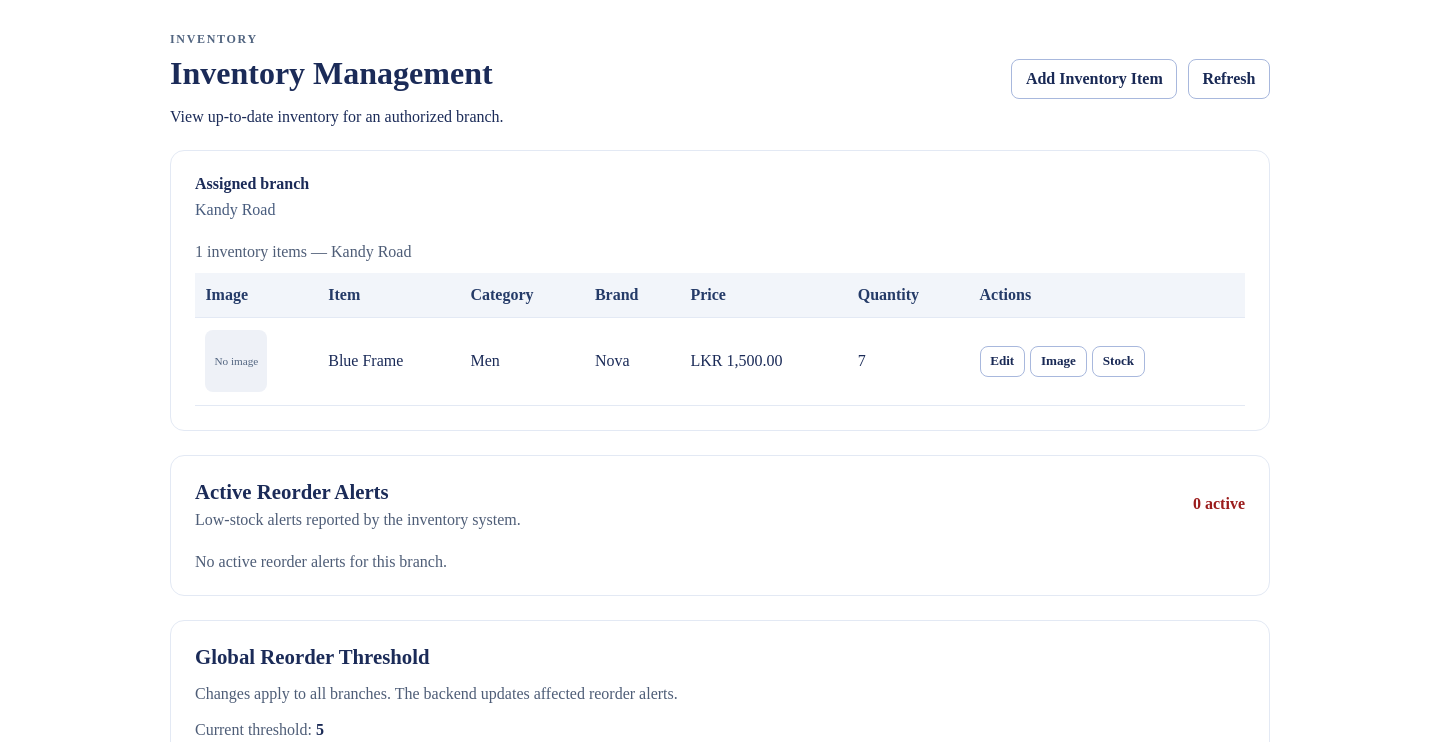
Inventory quantity management › rejects empty, negative, and fractional inputs () without any request
The width and height of the screenshot is (1440, 742).
Click the button named "Update quantity for Blue Frame": click(1118, 361) [1092,346,1145,377]
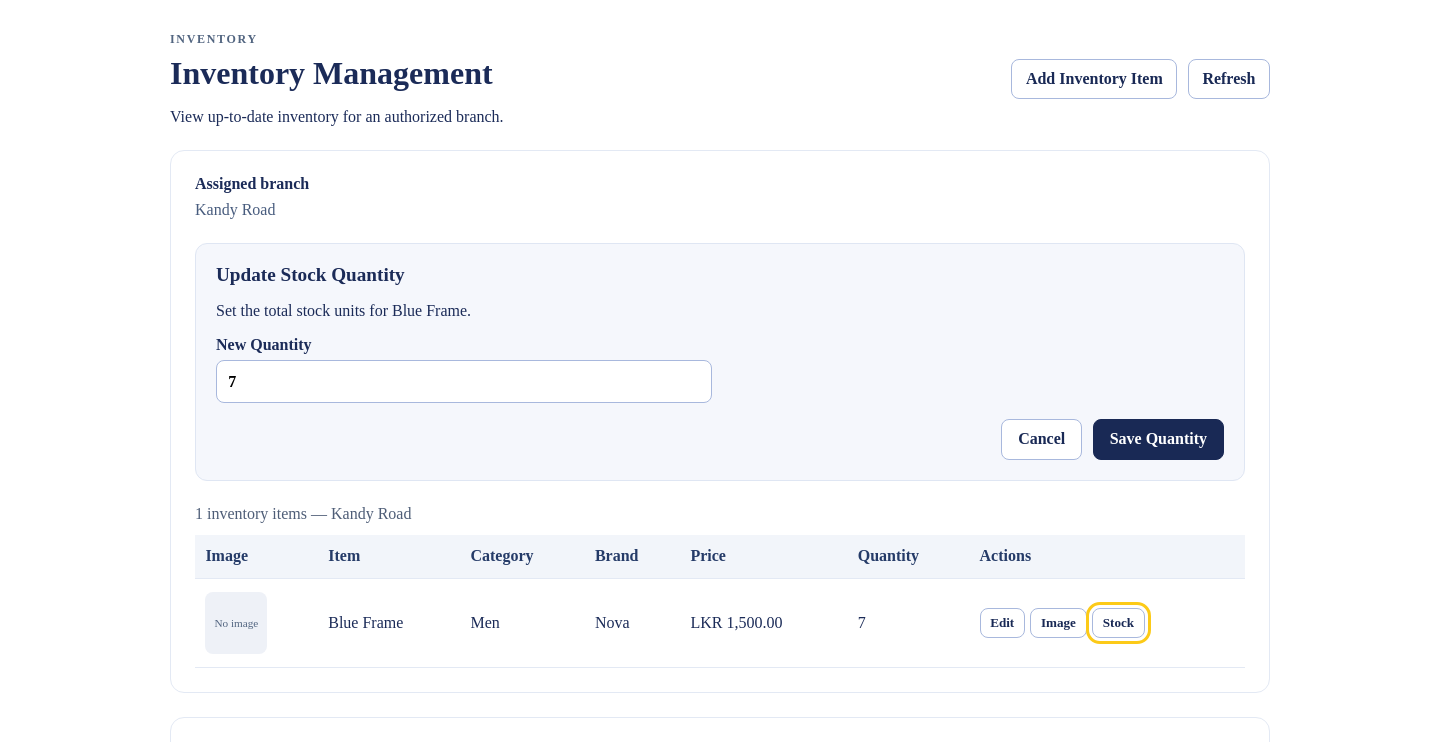
Clear the number field labelled "New Quantity": (464, 382) [216,360,712,403]
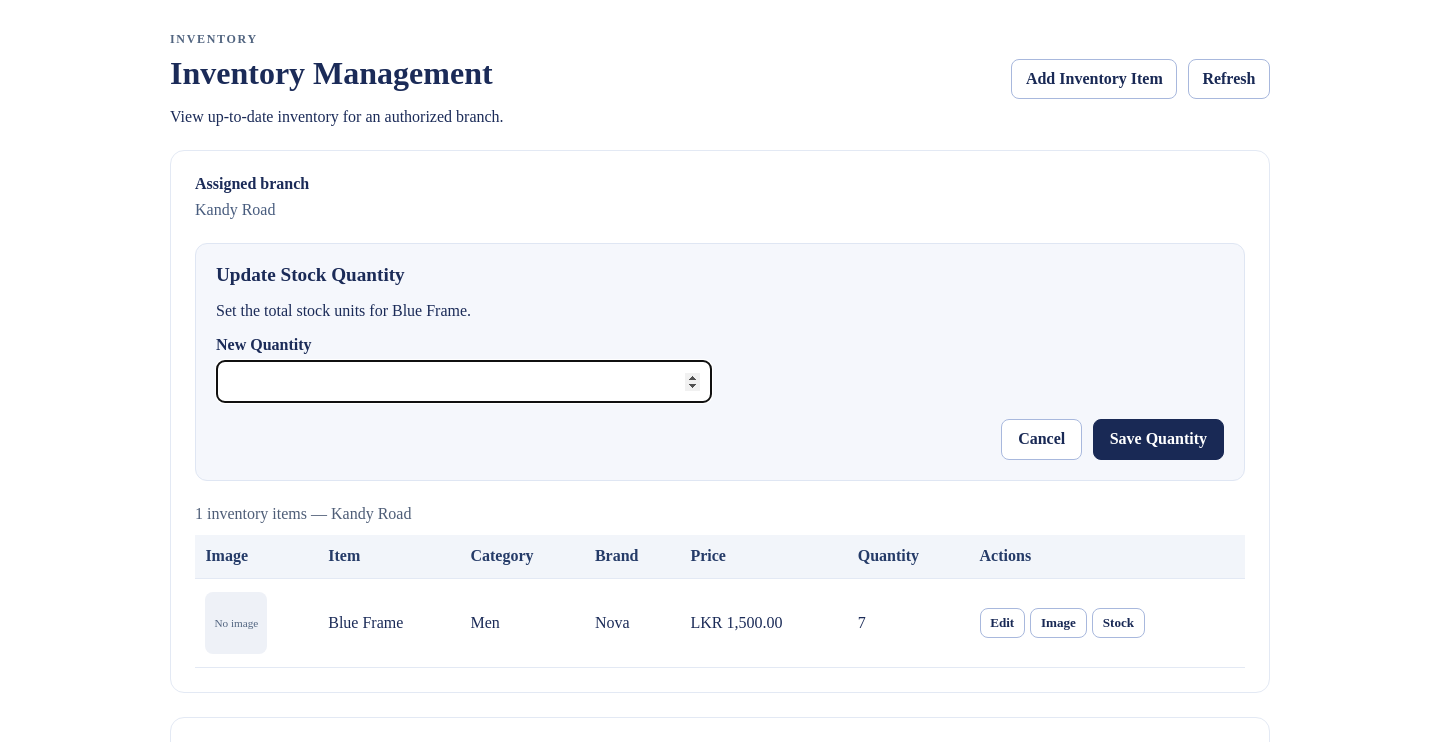
Click the button "Save Quantity": click(1158, 439) [1093,419,1224,460]
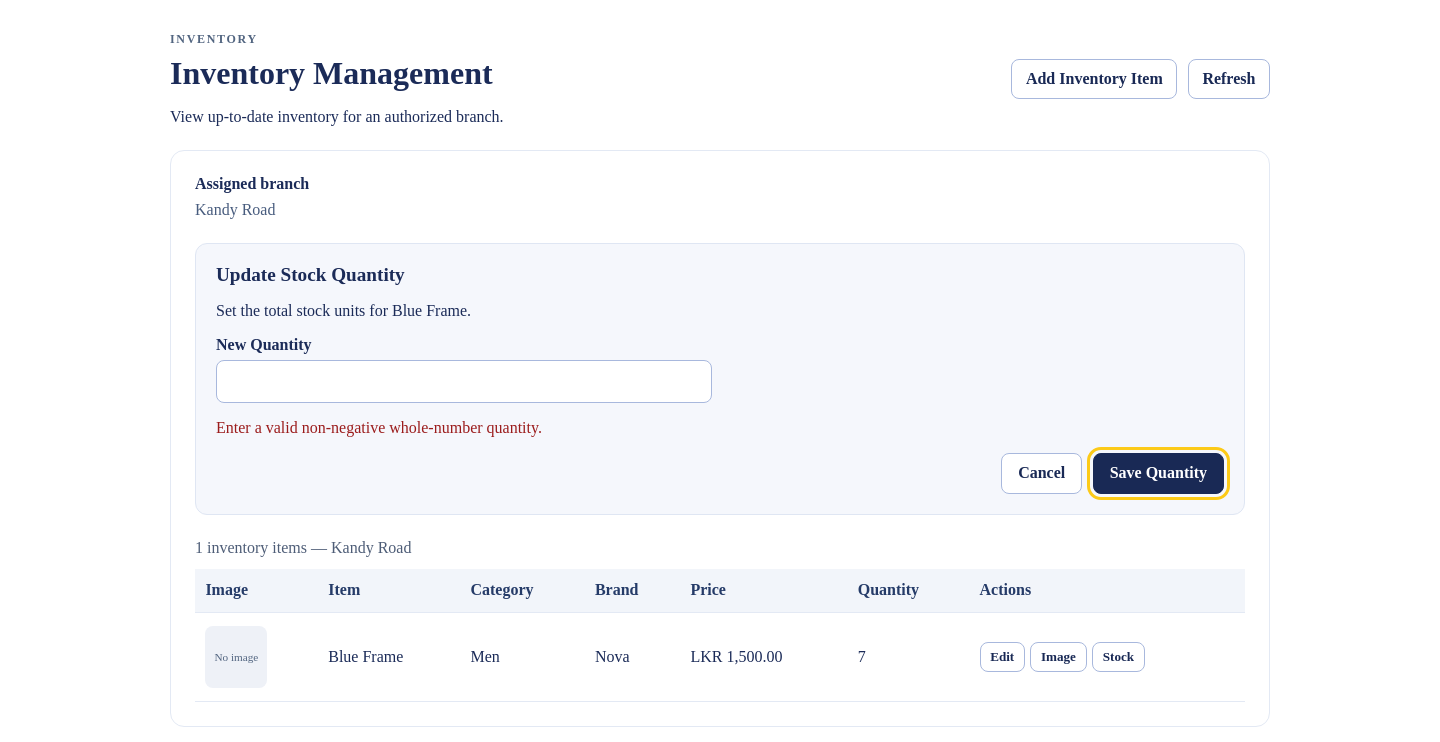
Expected: the message shows "non-negative whole-number quantity", [216,419,542,436]
